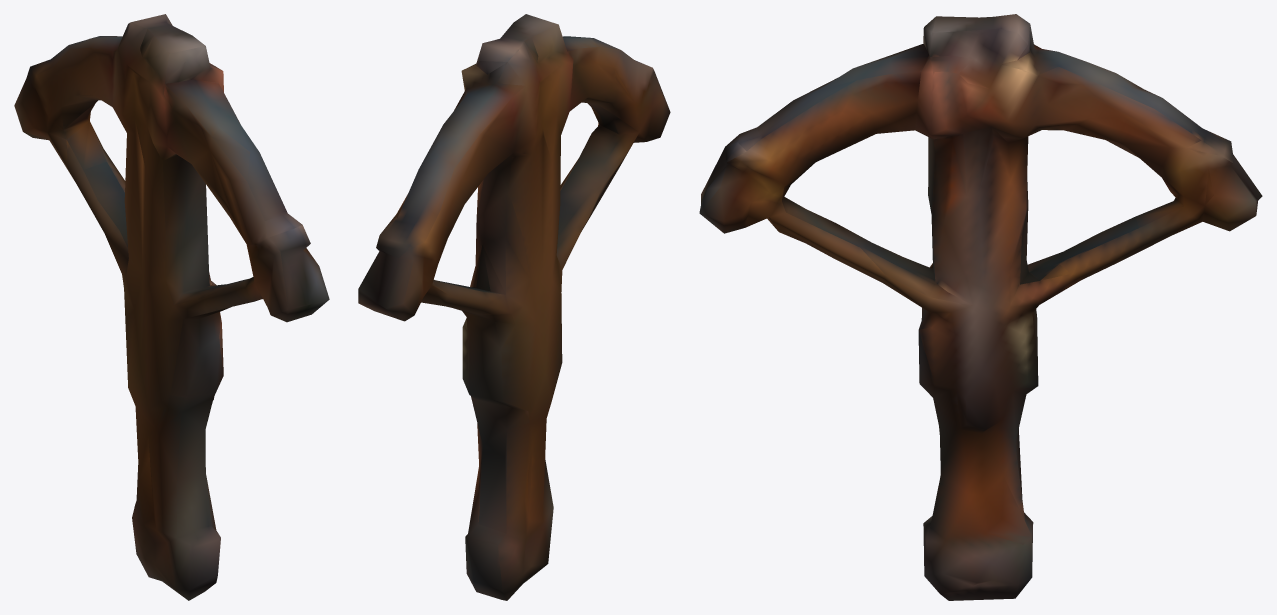
File: crossbow_stone.glb
3 views of the same model, side by side, from view 1: azimuth 30°, elevation 25°; view 2: azimuth 150°, elevation 25°; view 3: azimuth 270°, elevation 25° (orthographic). The views are drawn at different scales.
Parts seen in each view (by area): view 1: model; view 2: model; view 3: model.
Boxes of the visible parts, x1,y1,x2,y2 form: model: [14, 14, 329, 600]; model: [358, 14, 670, 600]; model: [699, 14, 1262, 600].
Bounding box in the file's own units: 0.1131 × 0.7975 × 0.7116.
1 material, 1 textured.
